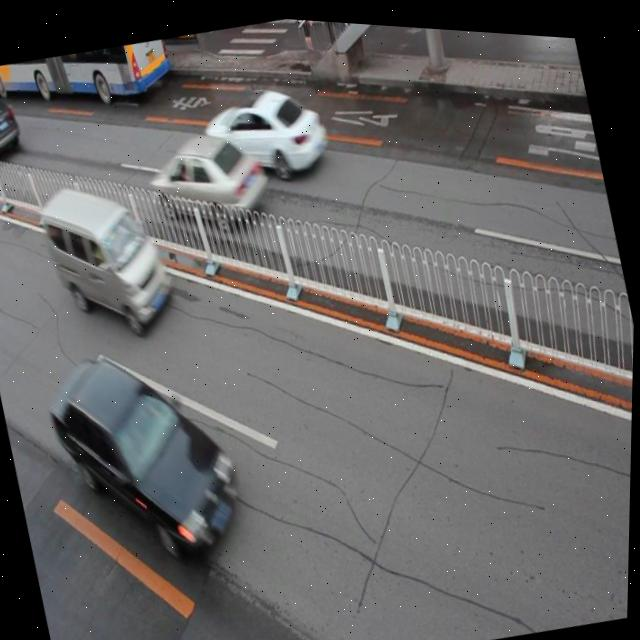car: (40, 329, 250, 575), (143, 115, 277, 248), (197, 68, 335, 195), (0, 83, 26, 172)
truck: (32, 163, 182, 345)
van: (0, 27, 174, 128)
